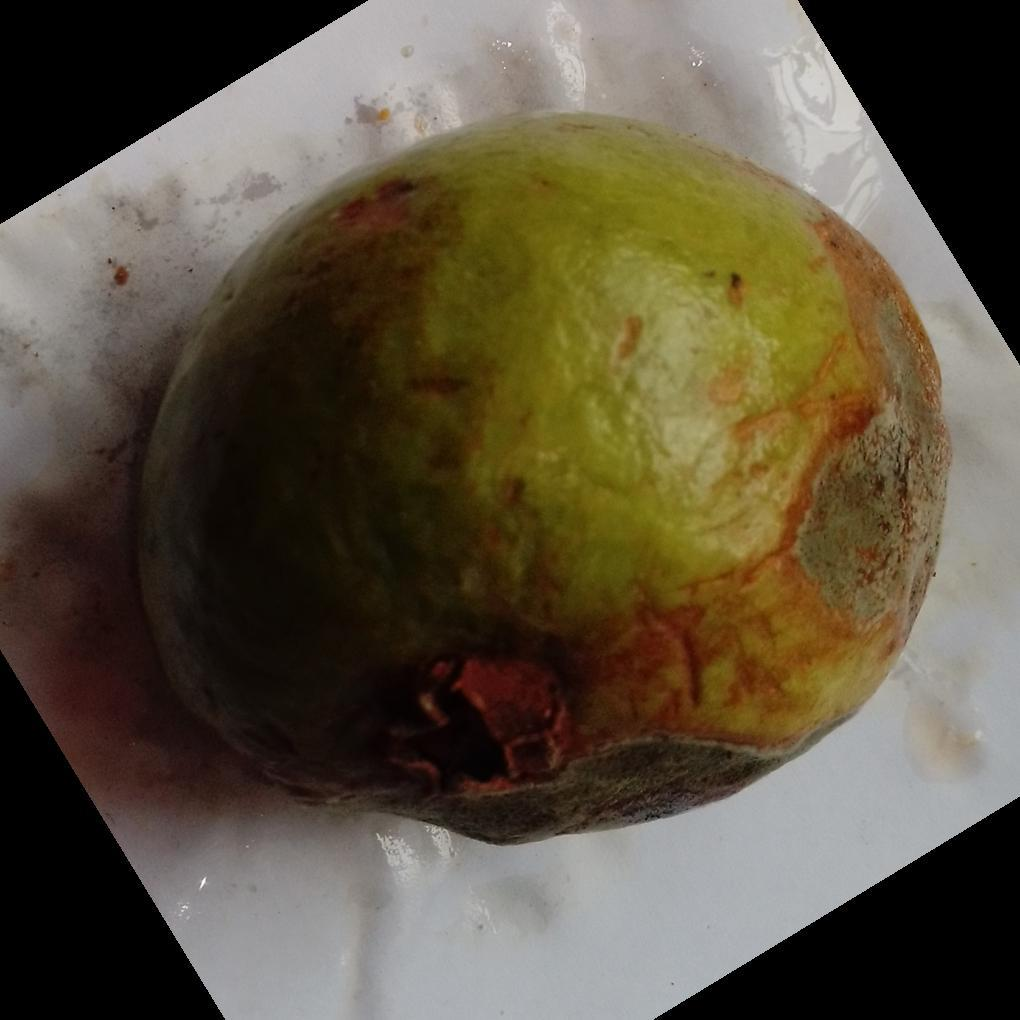FreshOrange: (127, 111, 951, 848)
